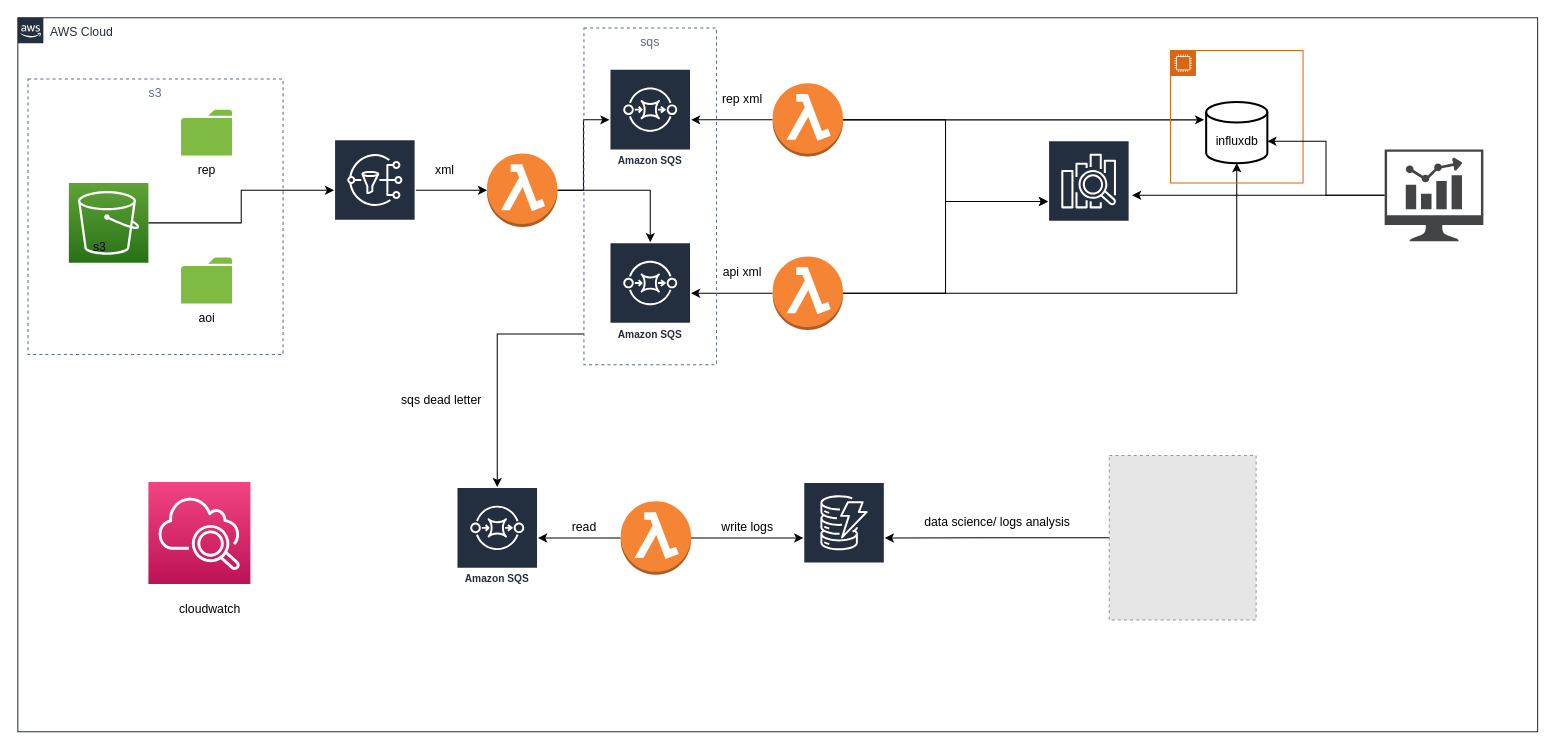
The diagram is 1556 pixels wide and 750 high, and some of its shapes have lost their labels. Grey dashed boxes stand in for pictures. Each missing label, with the box of its shape:
Amazon DynamoDB: (802, 481, 885, 594)
Amazon Elasticsearch Service: (1047, 139, 1130, 263)
Amazon SNS: (333, 138, 416, 241)
EC2 instance contents: (1169, 49, 1303, 183)
